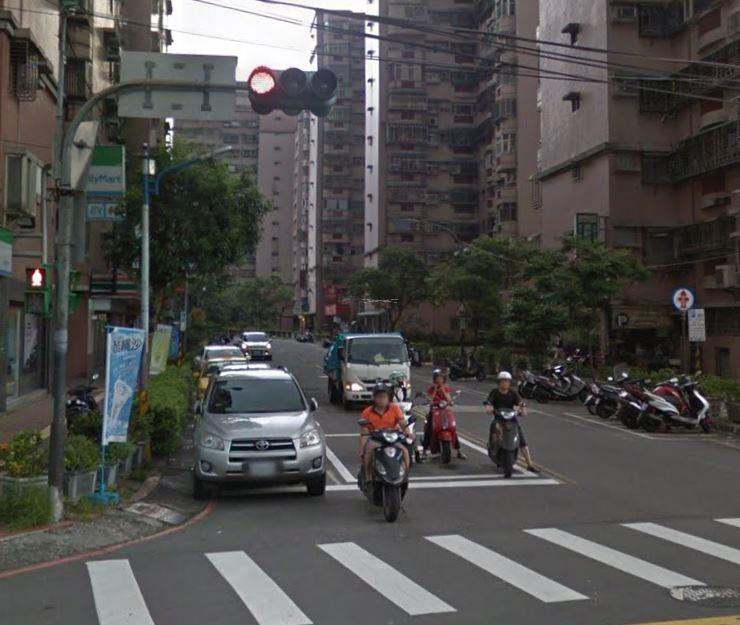red_traffic_light: (245, 65, 337, 99)
